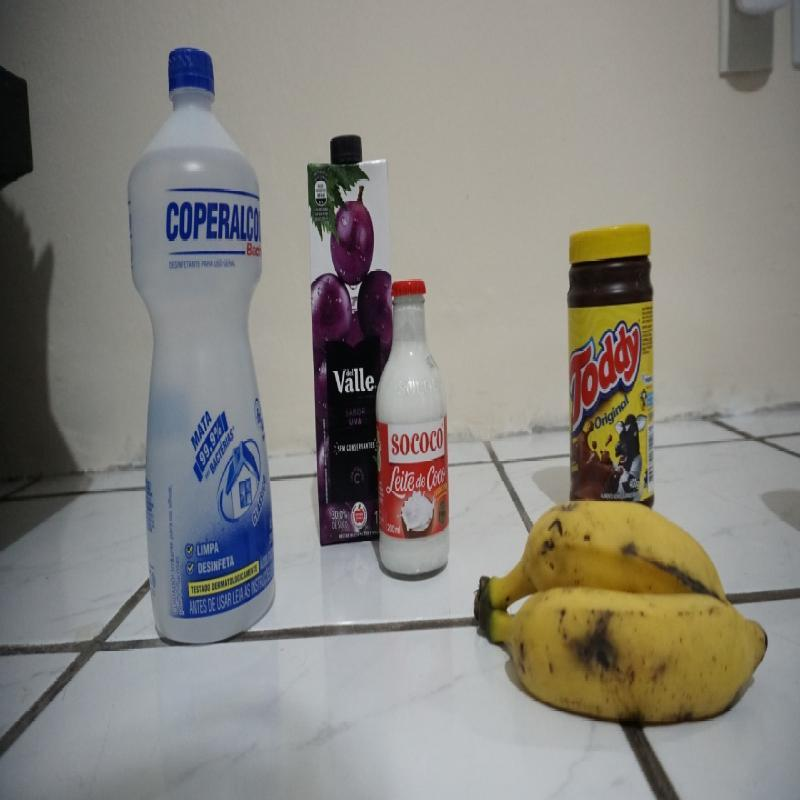Alcohol Bottle: (125, 45, 280, 645)
Banana: (476, 499, 771, 724)
Chocolate Powder: (564, 222, 659, 516)
Coconut Milk: (375, 277, 454, 580)
